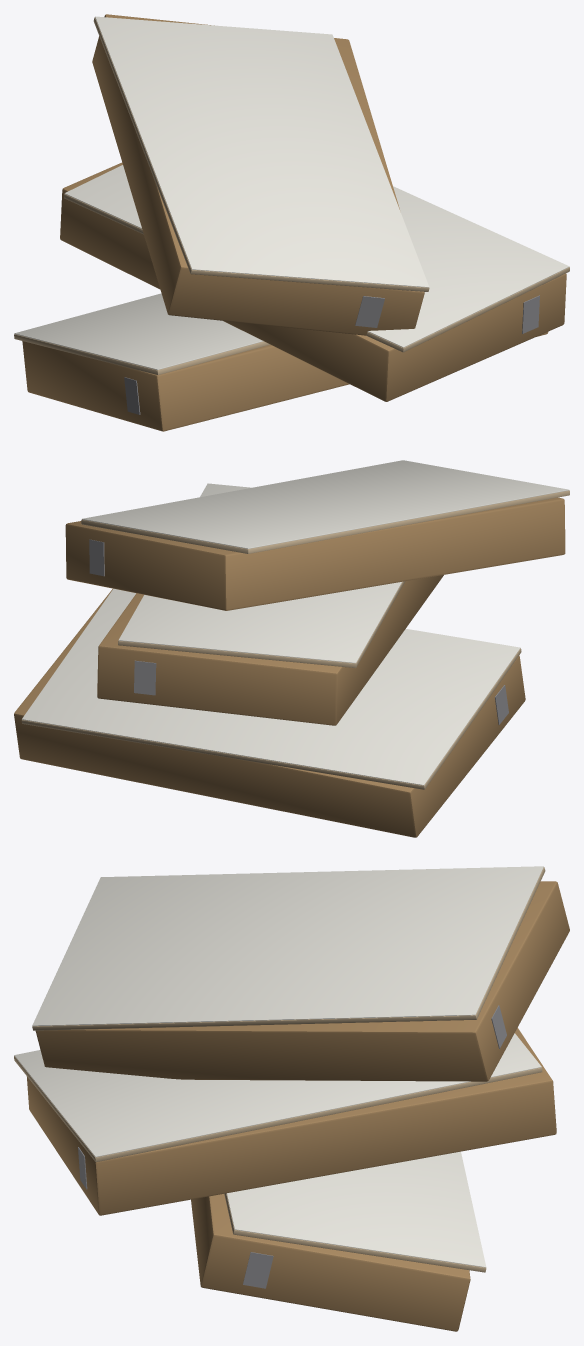
The model's file is REV-CER-003_anim.glb.
The picture shows the model from 3 angles, top to bottom: view 1: azimuth 30°, elevation 25°; view 2: azimuth 150°, elevation 25°; view 3: azimuth 270°, elevation 25°; orthographic projection. The views are drawn at different scales.
Parts seen in each view (by area): view 1: REV-CER-003_anim2, REV-CER-003_anim1, REV-CER-003_anim0; view 2: REV-CER-003_anim0, REV-CER-003_anim2, REV-CER-003_anim1; view 3: REV-CER-003_anim2, REV-CER-003_anim1, REV-CER-003_anim0.
Boxes of the visible parts, box(x1,y1,x2,y2) form: REV-CER-003_anim2: box(92, 14, 429, 335); REV-CER-003_anim1: box(60, 162, 569, 401); REV-CER-003_anim0: box(14, 293, 548, 431); REV-CER-003_anim0: box(14, 588, 525, 837); REV-CER-003_anim2: box(65, 460, 569, 610); REV-CER-003_anim1: box(97, 483, 443, 725); REV-CER-003_anim2: box(32, 866, 569, 1081); REV-CER-003_anim1: box(14, 1027, 556, 1215); REV-CER-003_anim0: box(191, 1151, 486, 1331).
Size of the model in its own units: 0.6386 by 0.4576 by 0.7068.
6 materials, 4 textured.
